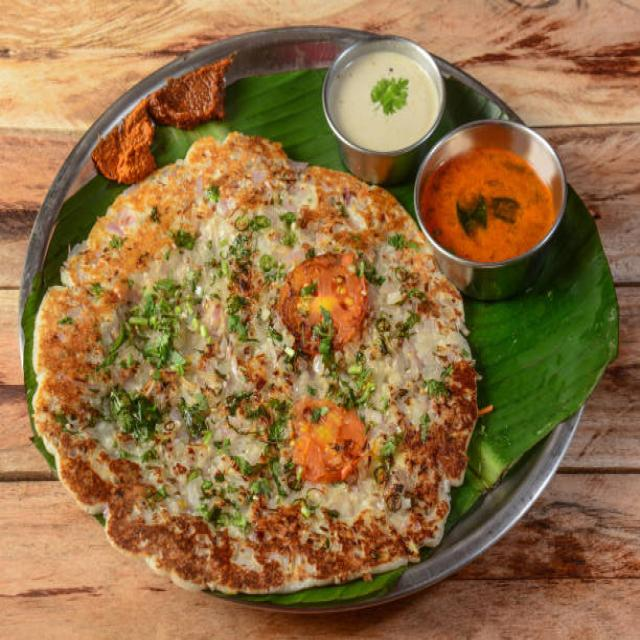DOSA: (43, 141, 475, 593)
RED CHUTNEY: (430, 154, 548, 254), (92, 92, 158, 182), (154, 62, 230, 129)
WHITE CHUTNEY: (331, 55, 435, 148)
